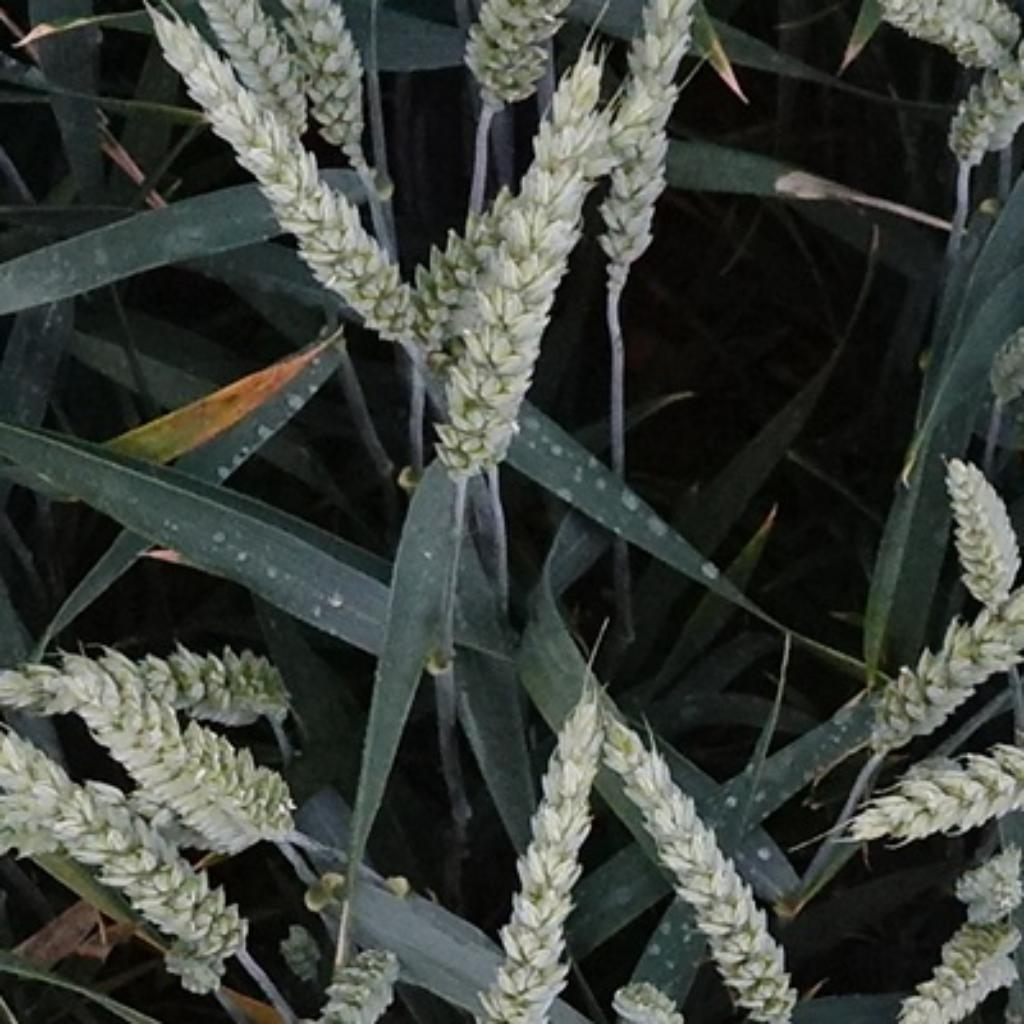0-0: (141, 8, 420, 365), (412, 33, 628, 493), (552, 665, 798, 1013), (2, 732, 256, 988), (46, 637, 307, 860), (468, 678, 622, 1024), (2, 762, 304, 885), (591, 2, 704, 307), (2, 627, 290, 734), (852, 586, 1024, 744), (413, 174, 542, 352), (834, 737, 1024, 857), (294, 2, 396, 177), (929, 440, 1024, 609), (202, 2, 309, 140), (453, 2, 573, 110), (875, 2, 1021, 84), (279, 939, 412, 1024), (947, 70, 1024, 168), (944, 834, 1024, 913), (977, 307, 1024, 417), (147, 938, 226, 1002), (604, 965, 686, 1024), (272, 915, 325, 971)
